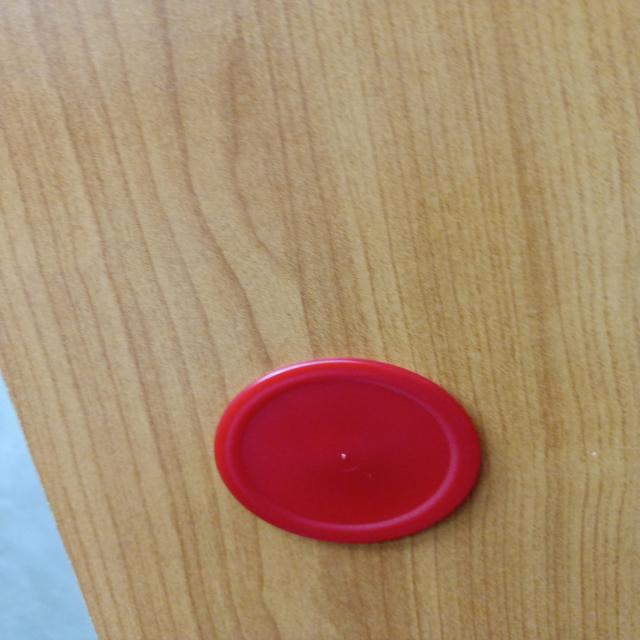chip: (210, 356, 484, 546)
